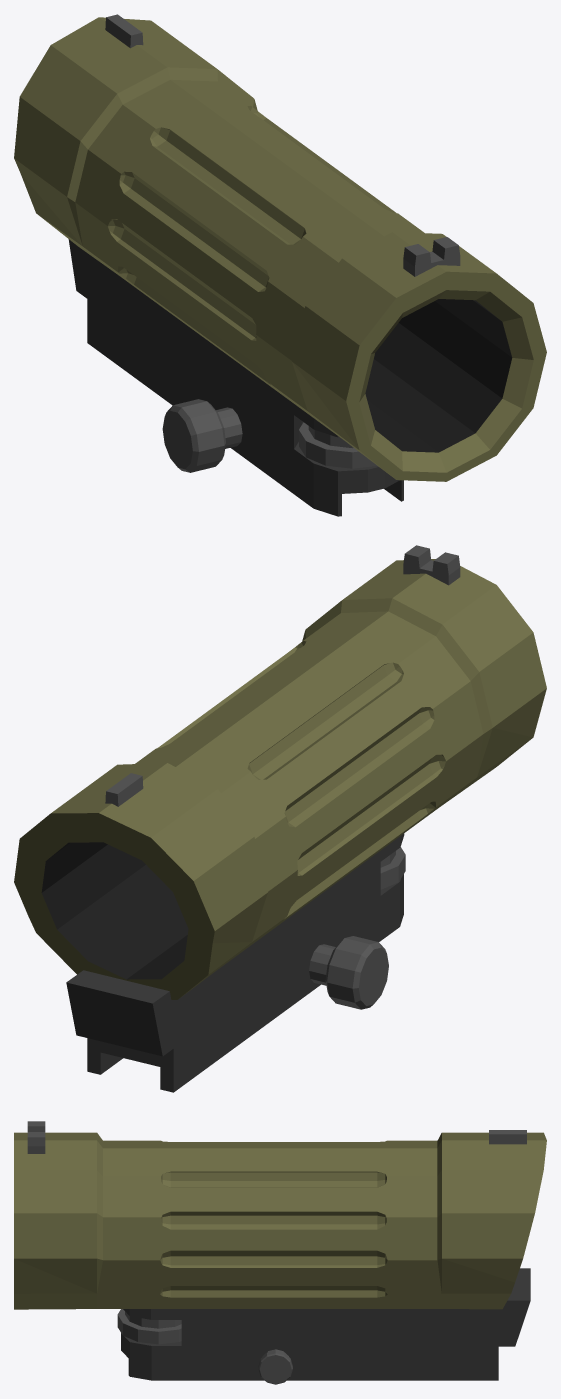
Rendered from ELCAN.fbx.
The picture shows the model from 3 angles, top to bottom: view 1: azimuth 30°, elevation 25°; view 2: azimuth 150°, elevation 25°; view 3: azimuth 270°, elevation 25°; orthographic projection. The views are drawn at different scales.
Parts seen in each view (by area): view 1: ELCAN; view 2: ELCAN; view 3: ELCAN.
Part boxes in pixels (<box>): ELCAN: <box>14,14,546,516</box>; ELCAN: <box>14,545,546,1092</box>; ELCAN: <box>14,1121,546,1384</box>.
Size of the model in its own units: 4.65 by 6.98 by 13.94.
1 material, 1 textured.
